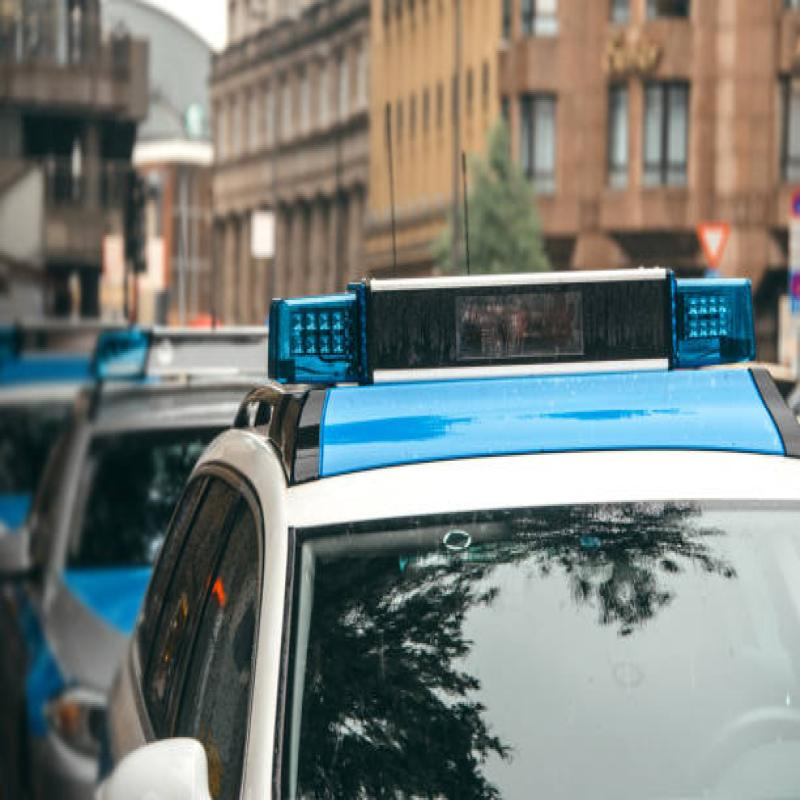AmbulanceSiren: (248, 243, 777, 422)
